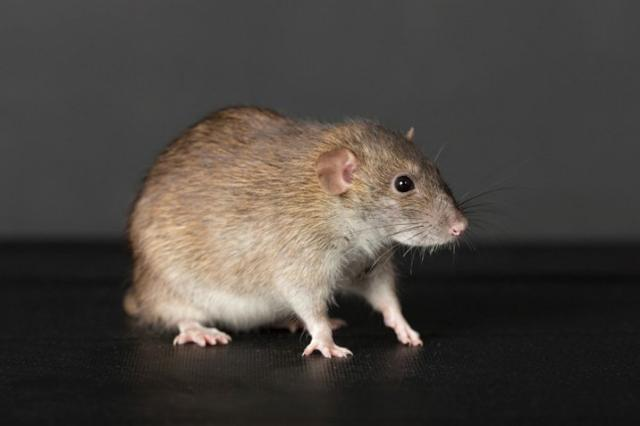rat: (91, 93, 499, 373)
